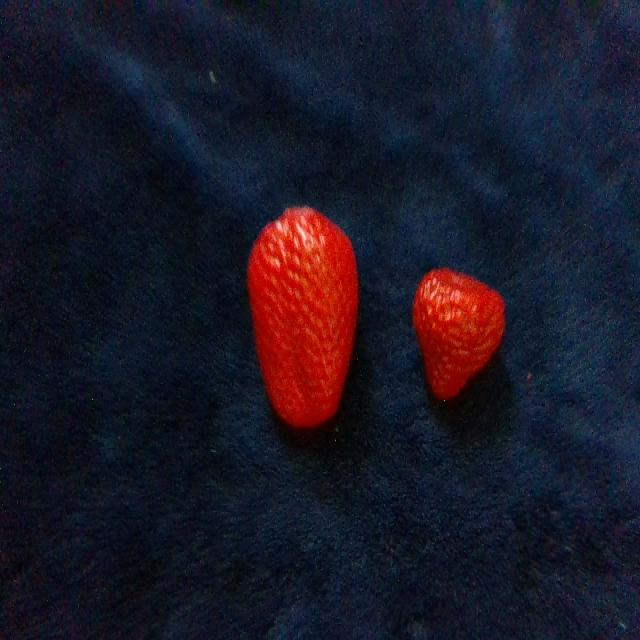chica_roja: (413, 268, 504, 397)
grande_roja: (250, 208, 357, 425)
